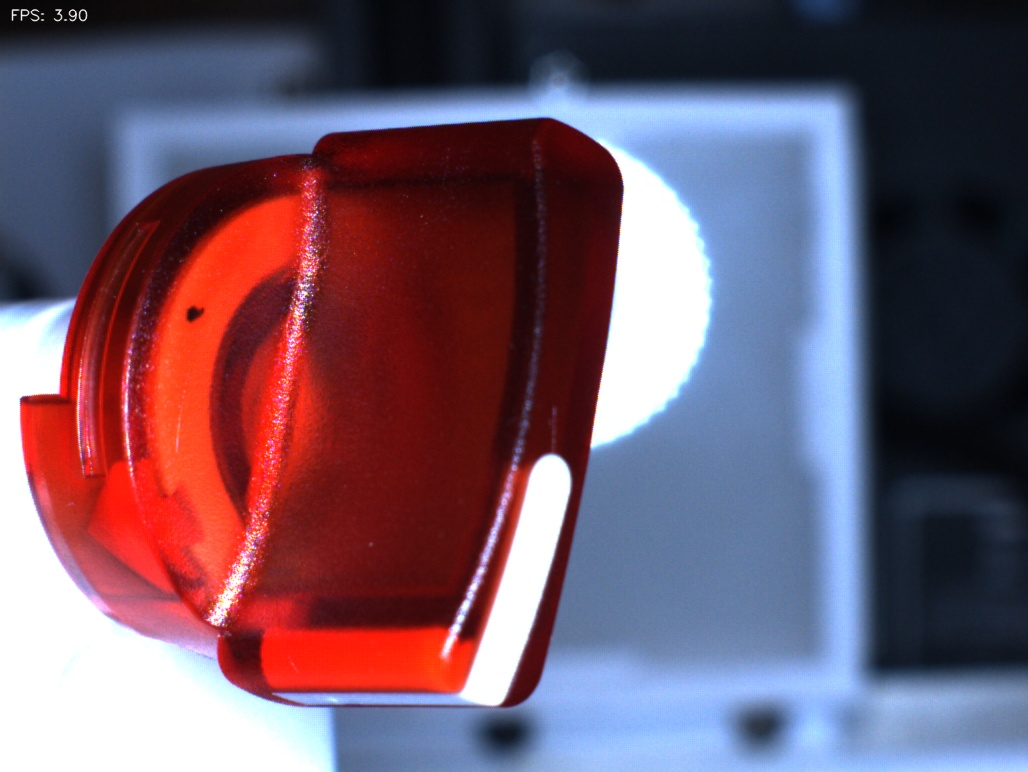PointNoir: (155, 279, 239, 354)
